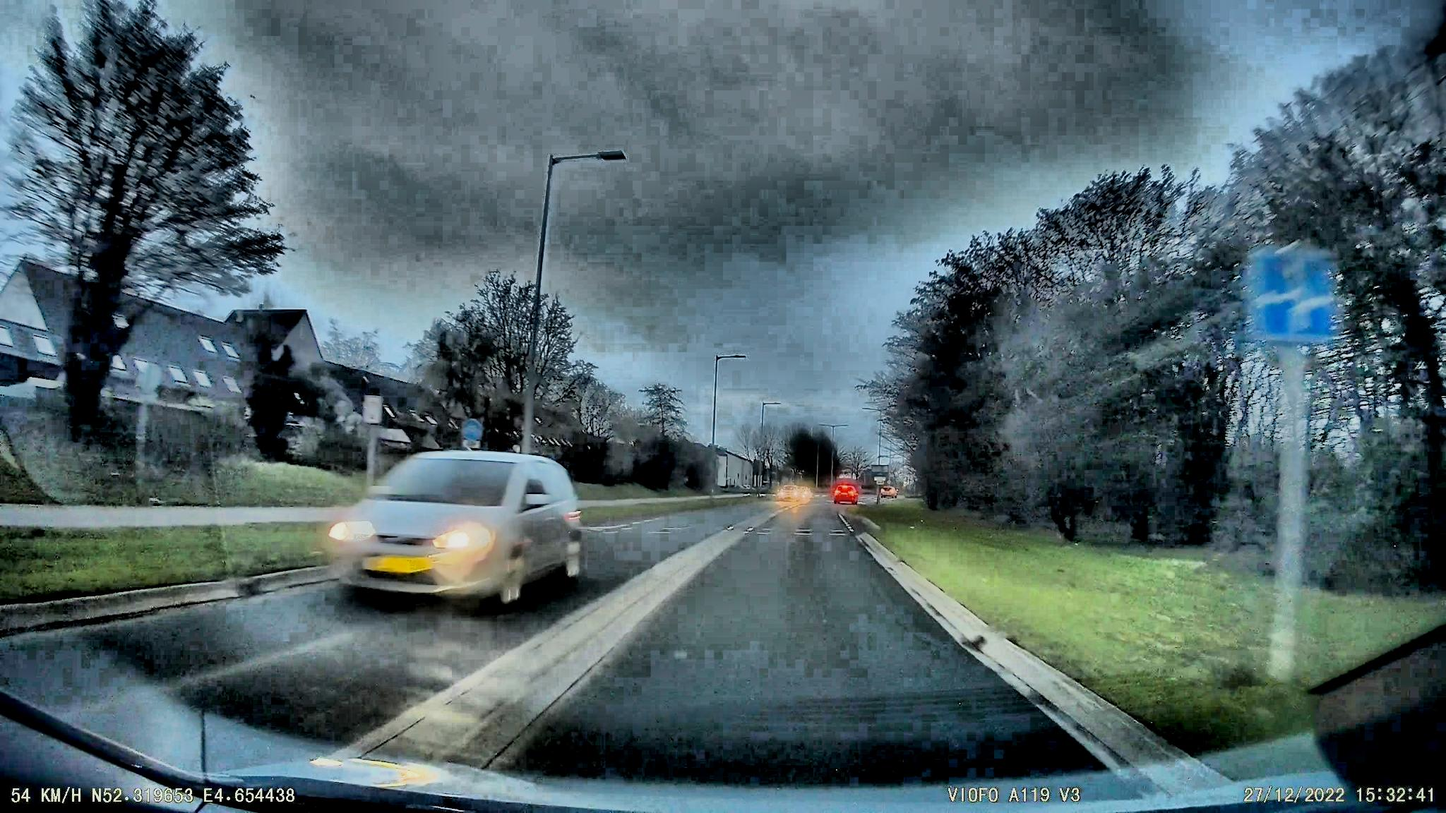Roads: (0, 501, 1142, 813)
